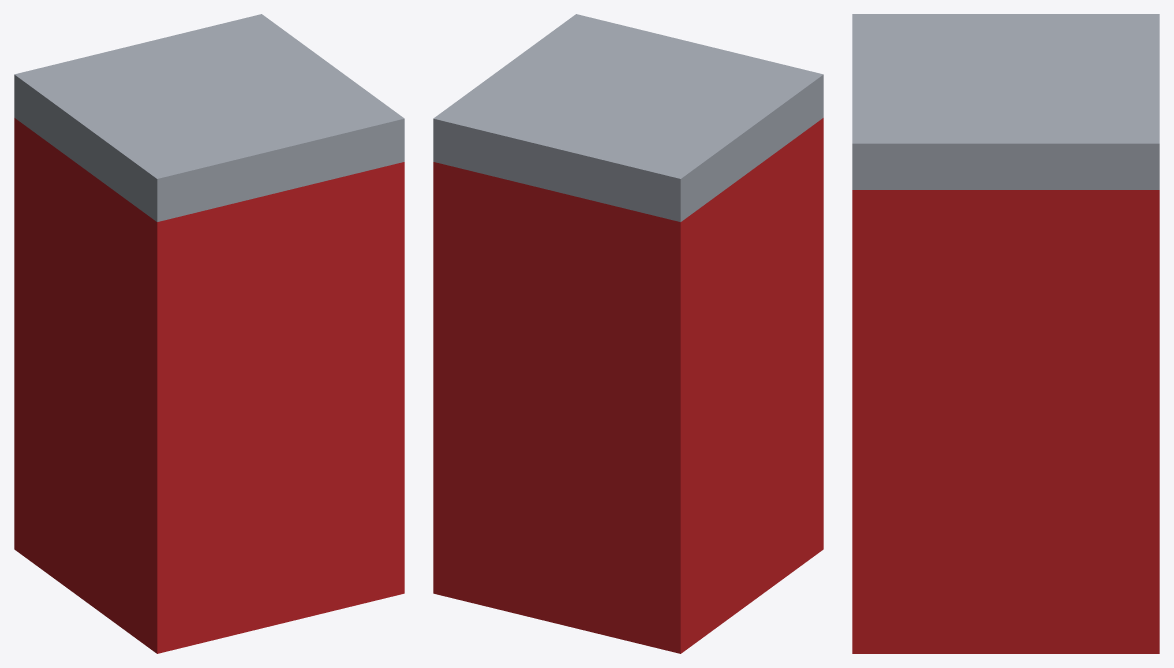
Rendered from can.glb.
3 renders of one model, left to right at view 1: azimuth 30°, elevation 25°; view 2: azimuth 150°, elevation 25°; view 3: azimuth 270°, elevation 25°, orthographic. The views are drawn at different scales.
Visible parts, largest first — view 1: can; view 2: can; view 3: can.
Boxes of the visible parts, <box> form: can: <box>14,14,404,653</box>; can: <box>433,14,823,653</box>; can: <box>852,14,1159,653</box>.
Size of the model in its own units: 0.06 by 0.11 by 0.06.
Materials: 1 (1 with a texture image).
